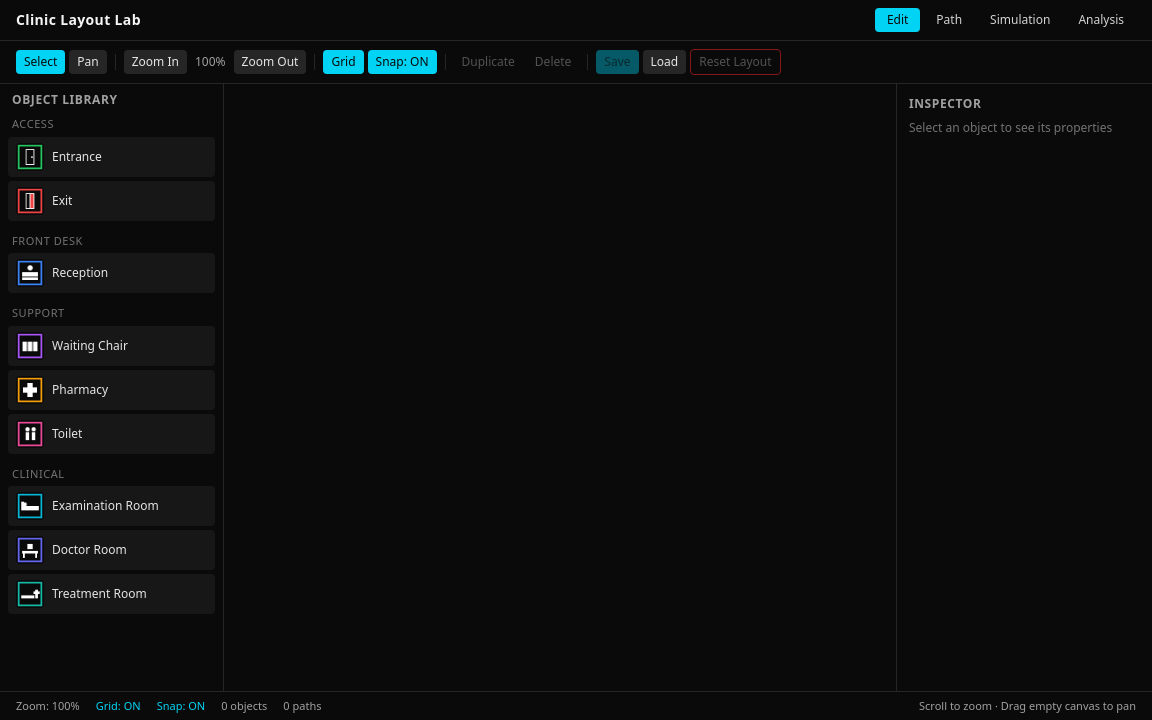
Test: Analysis mode (TC-067, TC-070) › renders heatmap cells, legend, and summary from movement data
Click the button "Analysis".
click(1101, 20)  # box [1066, 8, 1136, 32]
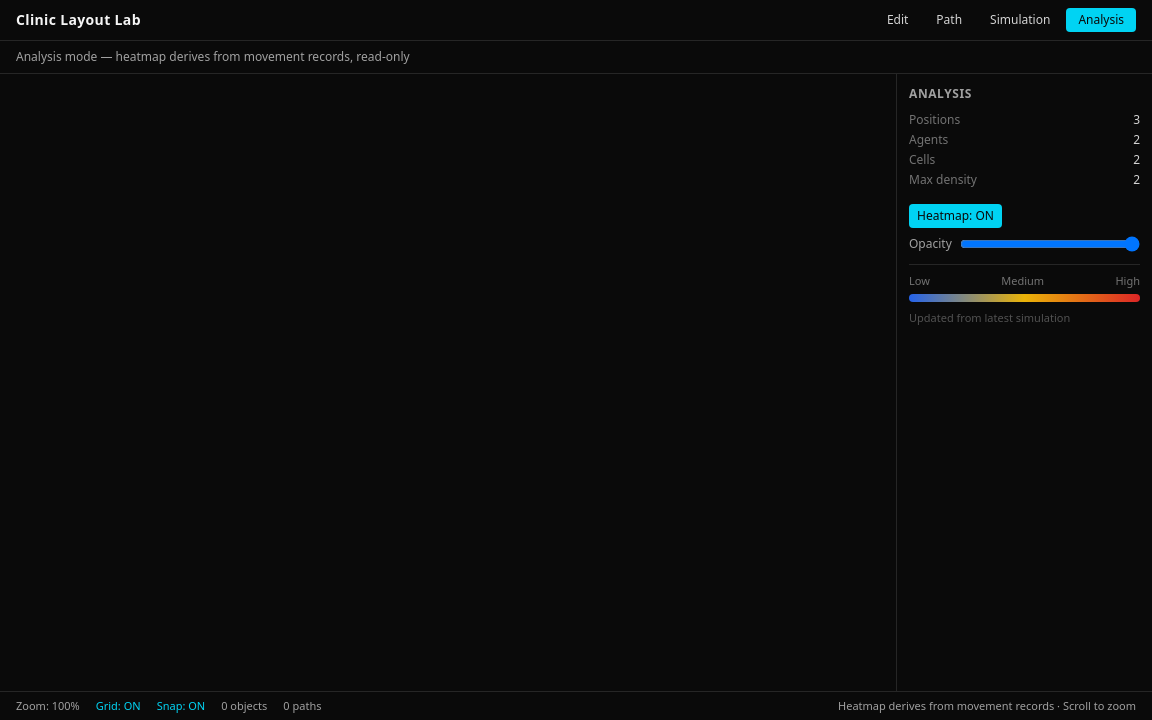
Now the element with test id "heatmap-legend-bar" is shown, box [909, 294, 1140, 302]
Now the text with test id "analysis-positions" reads "3", box [1133, 111, 1140, 128]
Now the text with test id "analysis-agents" reads "2", box [1133, 131, 1140, 148]
